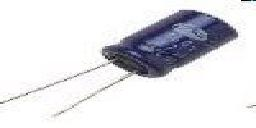Electrolytic-Capacitor: (1, 9, 239, 127)
